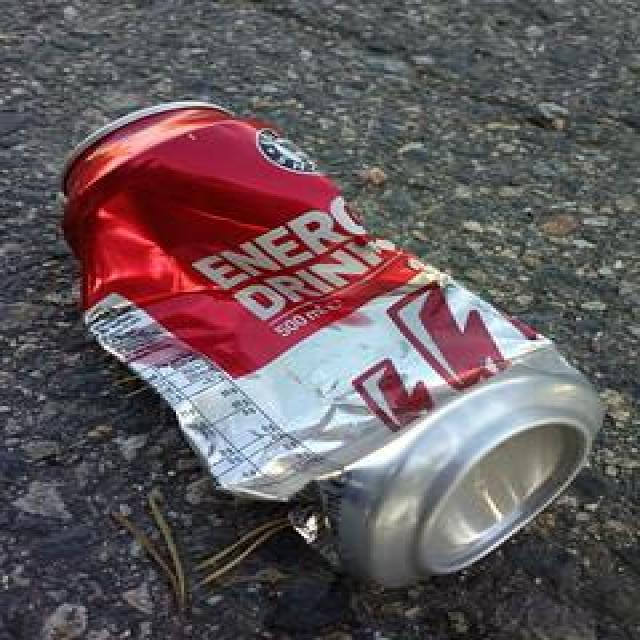can: (58, 98, 602, 590)
